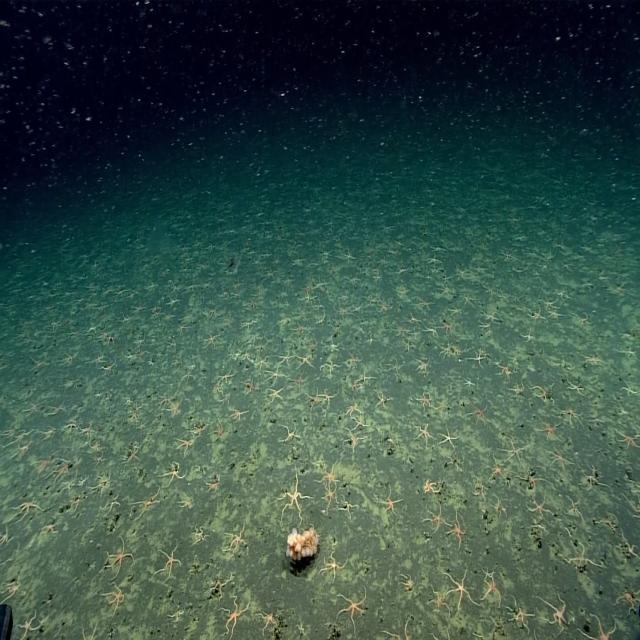brittle-stars: (274, 468, 310, 520), (446, 563, 476, 618), (104, 526, 134, 580), (534, 592, 569, 637), (125, 484, 163, 524), (562, 536, 601, 574), (219, 598, 255, 639), (335, 586, 367, 630), (153, 536, 180, 586), (577, 608, 618, 640), (498, 432, 532, 468), (218, 523, 251, 559), (424, 497, 452, 536), (616, 525, 639, 572), (319, 547, 346, 587), (504, 597, 534, 632), (10, 495, 44, 525), (14, 607, 44, 640), (479, 570, 502, 612), (425, 582, 449, 621), (200, 572, 230, 602), (155, 456, 184, 485), (518, 459, 543, 492), (577, 463, 607, 490), (465, 400, 496, 426), (379, 484, 402, 519), (335, 428, 365, 454), (544, 450, 575, 475), (556, 401, 586, 426), (615, 586, 640, 615), (564, 486, 584, 522), (612, 424, 636, 454), (448, 511, 468, 547), (486, 456, 510, 486), (75, 616, 104, 640), (410, 420, 434, 449), (258, 604, 278, 638), (438, 418, 458, 452), (0, 575, 25, 602), (104, 589, 128, 616), (315, 468, 343, 490), (381, 624, 418, 640), (34, 519, 62, 540), (415, 386, 436, 414), (88, 468, 111, 493), (528, 491, 548, 519), (534, 418, 556, 442), (278, 424, 302, 446), (529, 378, 550, 403), (225, 403, 250, 424), (372, 386, 392, 412), (187, 521, 208, 545), (101, 492, 122, 516), (338, 492, 356, 520), (322, 484, 338, 515), (9, 442, 32, 463), (419, 478, 443, 498), (33, 452, 51, 478), (58, 471, 79, 493), (397, 571, 416, 595), (304, 386, 322, 411), (50, 458, 70, 480), (11, 424, 33, 444), (210, 418, 227, 443), (490, 500, 510, 520), (318, 389, 341, 406), (21, 401, 44, 418), (0, 519, 13, 549), (478, 562, 497, 582), (349, 414, 369, 433), (37, 424, 57, 443), (581, 352, 608, 366), (126, 445, 142, 468), (64, 495, 82, 515), (599, 510, 617, 530), (428, 625, 451, 640), (167, 600, 183, 621), (266, 387, 284, 405), (495, 362, 515, 378), (188, 421, 209, 436), (205, 474, 219, 496), (343, 402, 362, 418), (568, 378, 588, 393), (508, 382, 525, 399), (436, 397, 453, 414), (180, 495, 194, 515), (623, 384, 637, 404), (474, 484, 489, 502), (76, 470, 93, 485), (175, 437, 193, 451), (359, 366, 374, 382), (82, 420, 94, 440), (91, 438, 104, 456), (52, 402, 71, 413), (294, 620, 305, 638), (0, 424, 14, 438), (169, 402, 183, 416), (246, 379, 259, 394), (218, 368, 233, 380), (349, 378, 360, 394), (92, 454, 108, 464), (418, 358, 432, 369), (69, 420, 78, 437), (464, 375, 473, 390), (160, 393, 170, 406), (129, 408, 139, 421), (213, 384, 225, 394)
